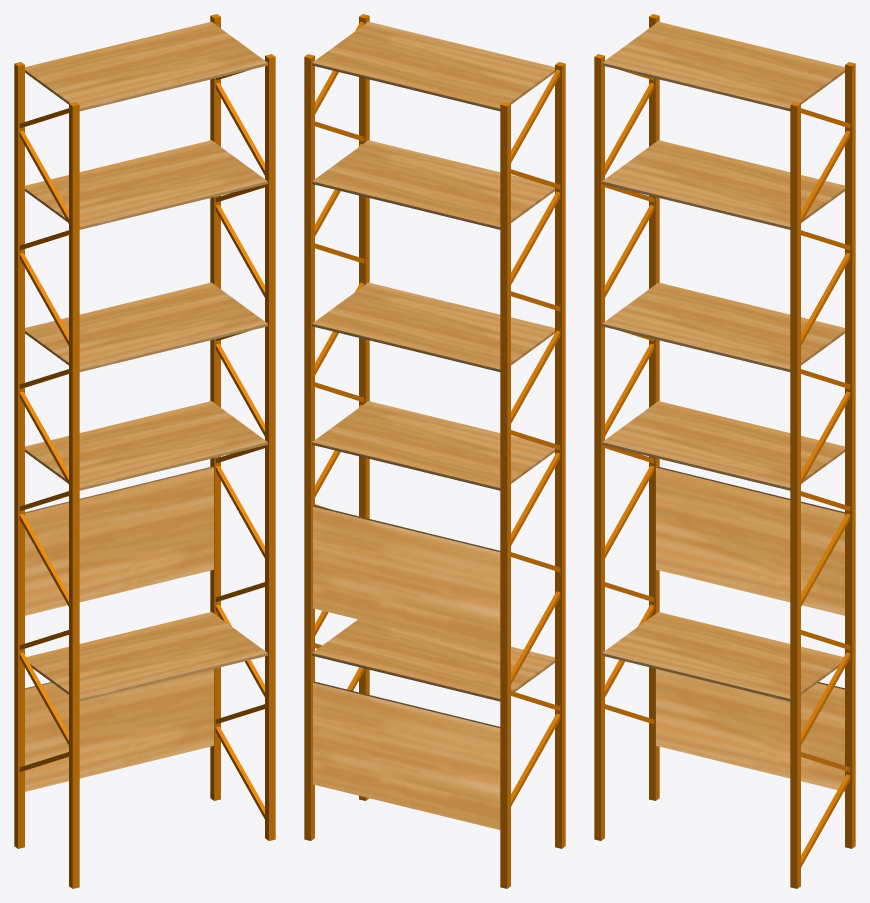
The model's file is Industrial_Rack_06.fbx.
3 views of the same model, side by side, from view 1: azimuth 30°, elevation 25°; view 2: azimuth 150°, elevation 25°; view 3: azimuth 330°, elevation 25° (orthographic).
Parts seen in each view (by area): view 1: Industrial_Rack_06; view 2: Industrial_Rack_06; view 3: Industrial_Rack_06.
Boxes of the visible parts, box(x1,y1,x2,y2) form: Industrial_Rack_06: box(14, 14, 275, 888); Industrial_Rack_06: box(304, 14, 565, 888); Industrial_Rack_06: box(594, 14, 855, 888).
Size of the model in its own units: 2 by 7.37 by 1.
